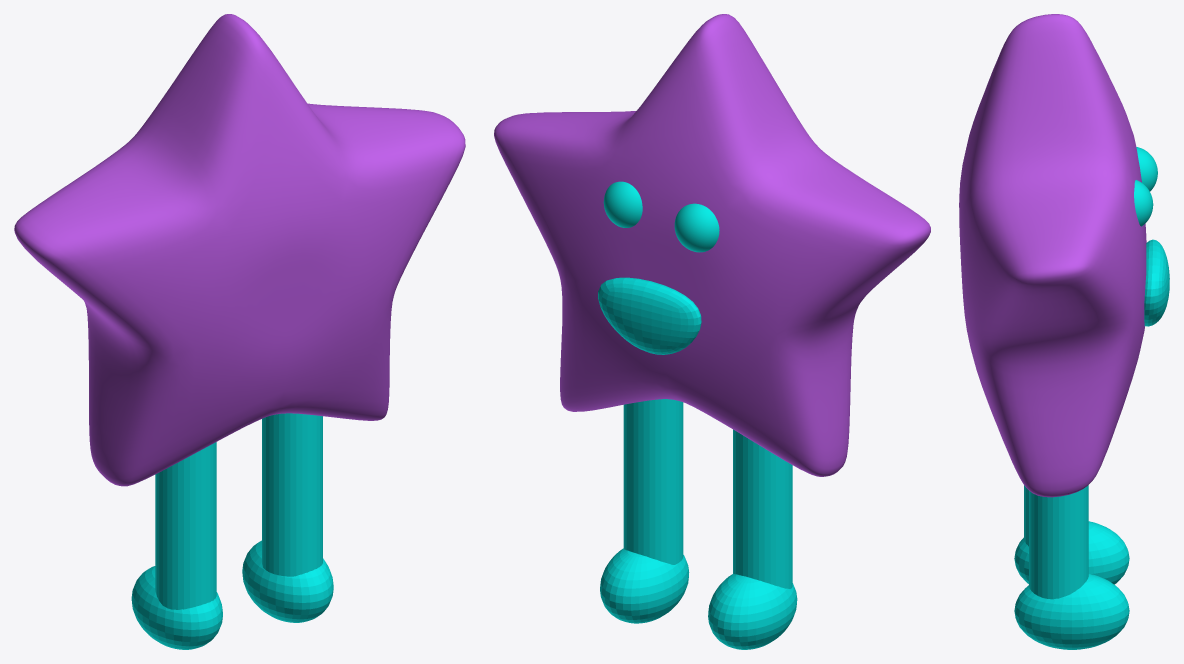
Rendered from estrella.glb.
3 views of the same model, side by side, from view 1: azimuth 30°, elevation 25°; view 2: azimuth 150°, elevation 25°; view 3: azimuth 270°, elevation 25° (orthographic). The views are drawn at different scales.
Visible parts, largest first — view 1: Estrella.003; view 2: Estrella.003; view 3: Estrella.003.
Part boxes in pixels (x1=…): Estrella.003: x1=14, y1=14, x2=465, y2=649; Estrella.003: x1=494, y1=14, x2=930, y2=649; Estrella.003: x1=959, y1=14, x2=1169, y2=649.
Bounding box in the file's own units: 2.41 × 3.31 × 1.05.
